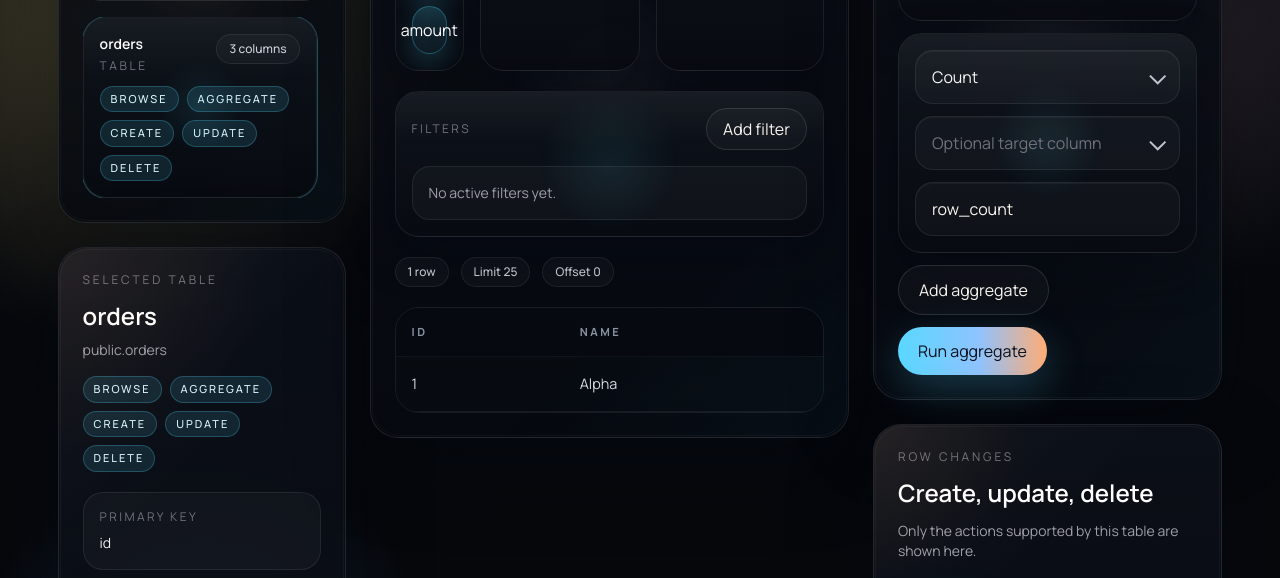
it: runtime explorer › sends the aggregate request payload and renders the result
(page scrolled)
Click the button "Run aggregate".
click(972, 350)  # box left=898, top=326, right=1047, bottom=374
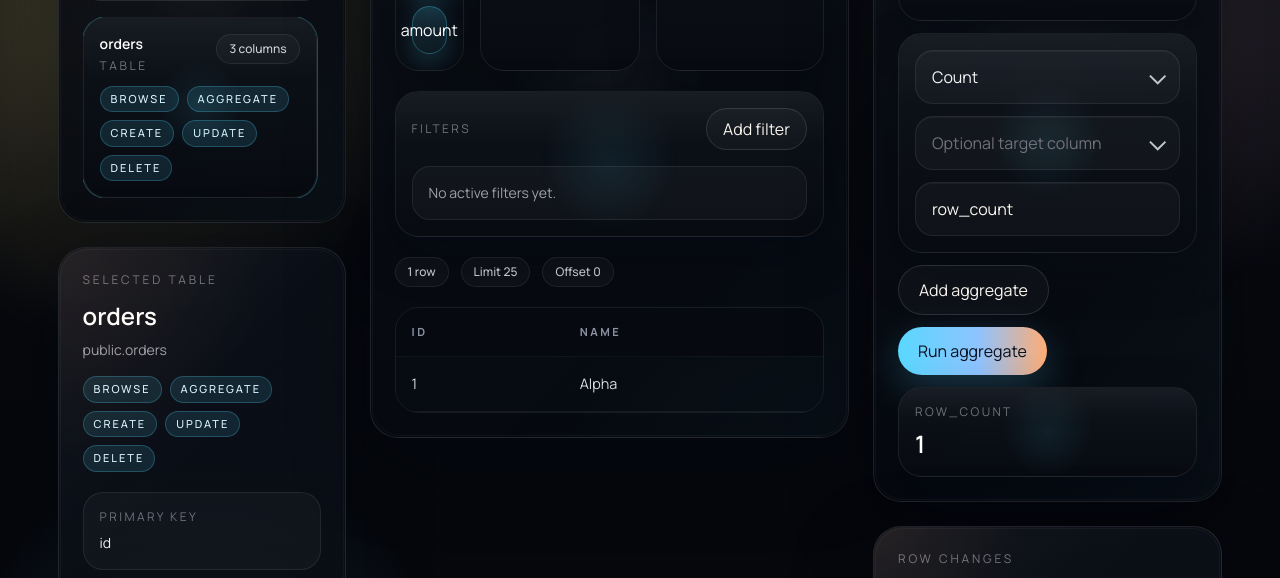
Expected: the text "row_count" is shown, left=915, top=402, right=1013, bottom=420
